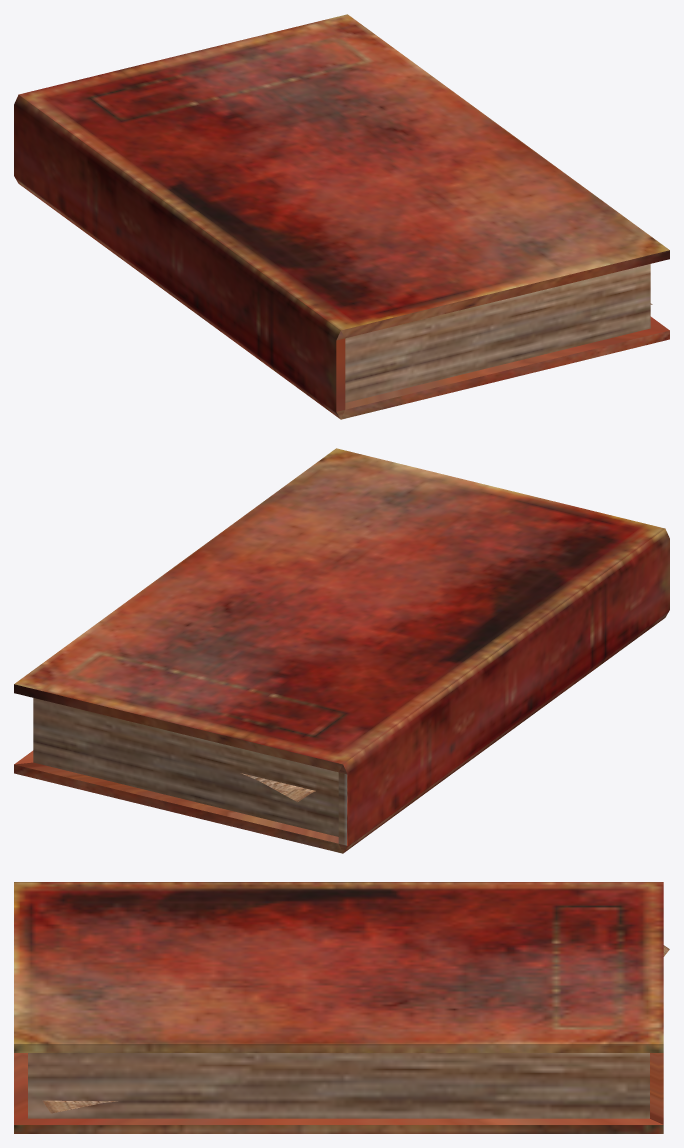
Rendered from Book03.fbx.
3 renders of one model, top to bottom at view 1: azimuth 30°, elevation 25°; view 2: azimuth 150°, elevation 25°; view 3: azimuth 270°, elevation 25°, orthographic.
Visible parts, largest first — view 1: pCube365.002; view 2: pCube365.002; view 3: pCube365.002.
Part boxes in pixels (bbox=[...]): pCube365.002: bbox=[14, 14, 669, 419]; pCube365.002: bbox=[14, 448, 669, 853]; pCube365.002: bbox=[14, 882, 669, 1133].
Bounding box in the file's own units: 45.57 × 11.59 × 76.63.
